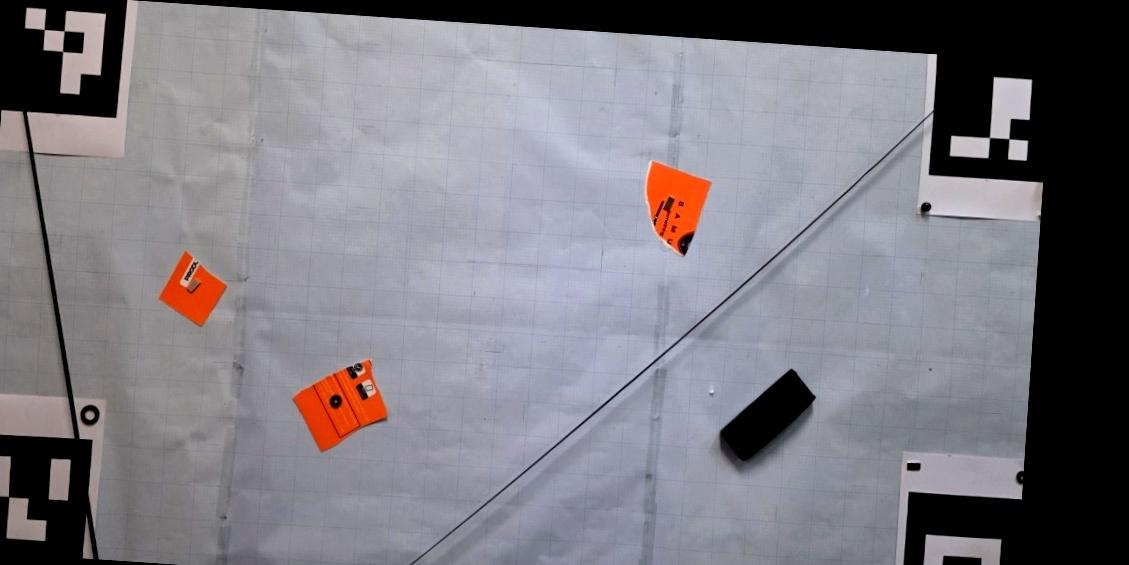obstacle: (719, 368, 815, 463), (293, 357, 389, 452), (643, 160, 712, 257), (158, 249, 229, 328)
